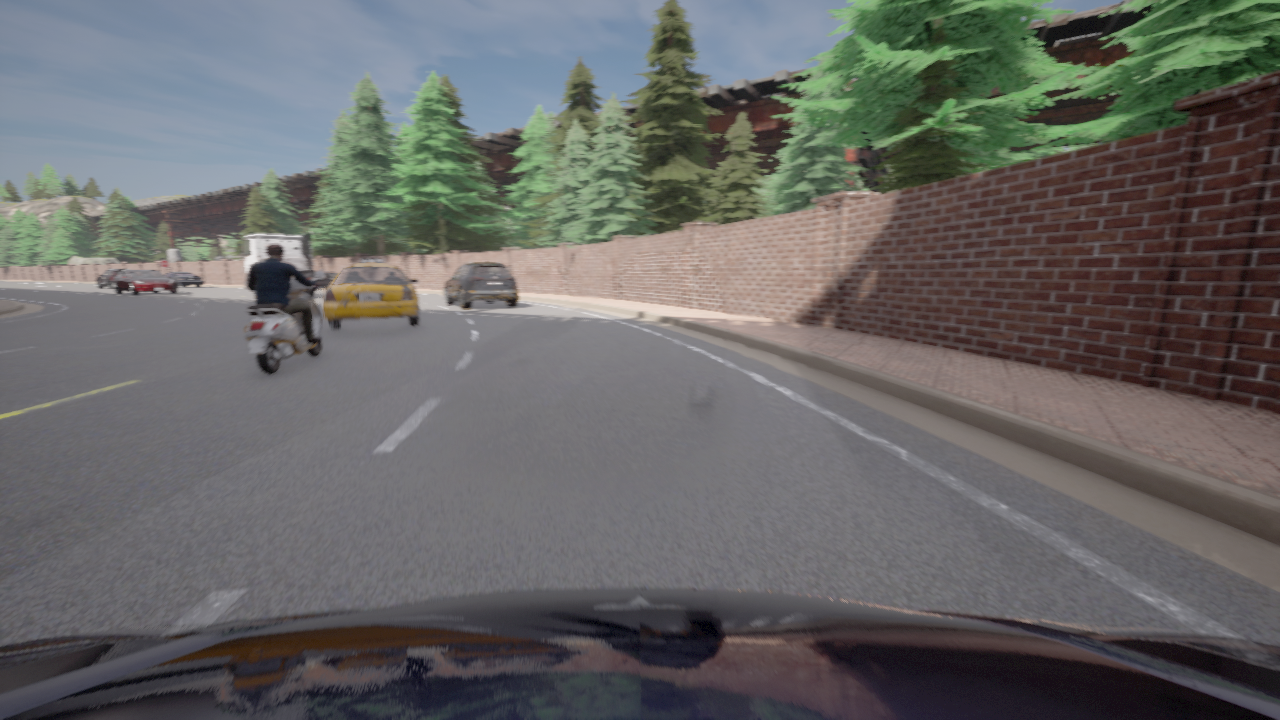cyclist: (0, 588, 1279, 719), (244, 270, 324, 373), (323, 258, 419, 329), (237, 233, 338, 297), (443, 261, 518, 308), (113, 269, 177, 294), (96, 269, 127, 288), (165, 272, 203, 287)
